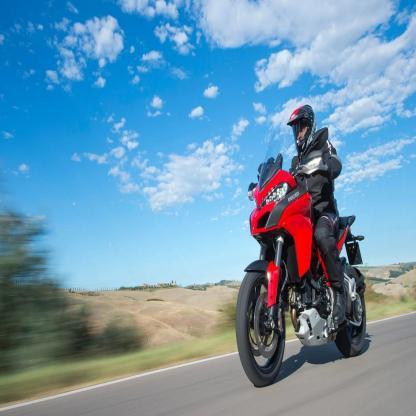helmet: (286, 104, 317, 160)
